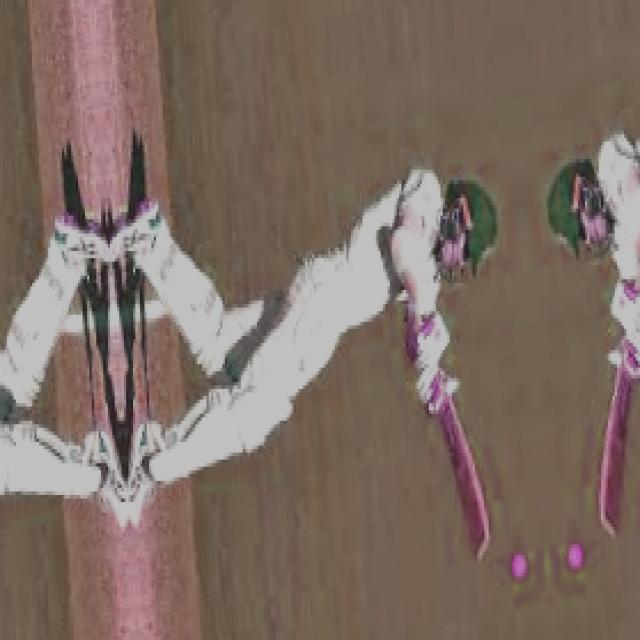toe: (475, 527, 493, 564)
